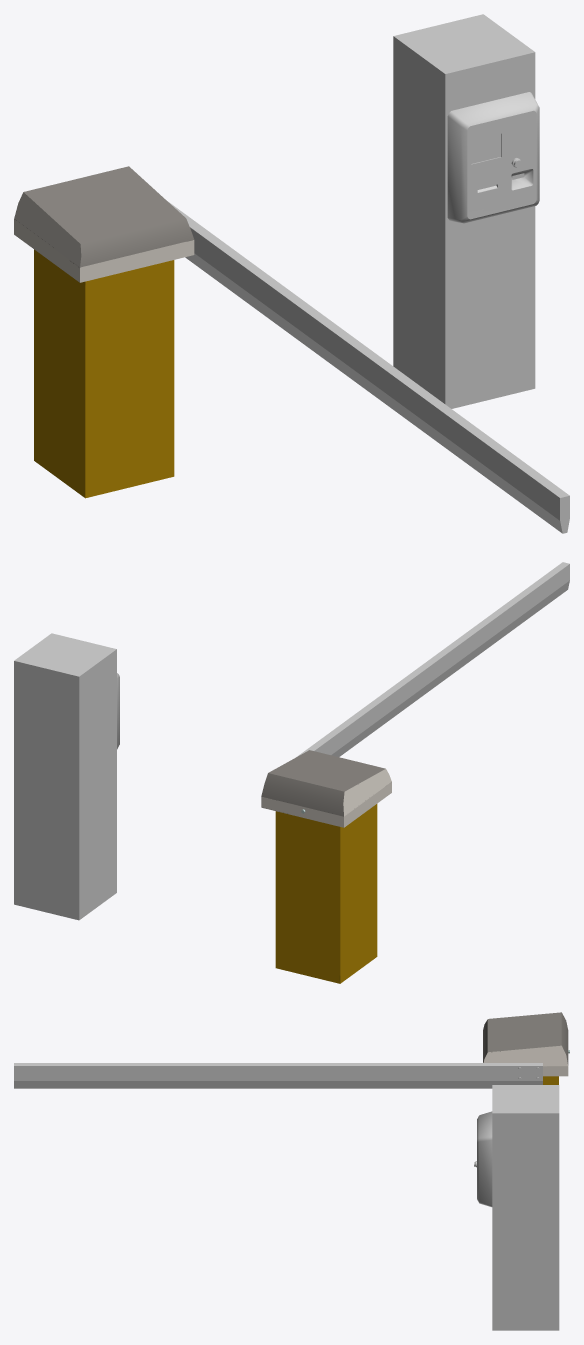
File: barrier gate.fbx
3 views of the same model, one above another, from view 1: azimuth 30°, elevation 25°; view 2: azimuth 150°, elevation 25°; view 3: azimuth 270°, elevation 25° (orthographic). The views are drawn at different scales.
Parts seen in each view (by area): view 1: machine_ticket, barrier gate, Bar; view 2: machine_ticket, barrier gate, Bar; view 3: machine_ticket, Bar, barrier gate.
Boxes of the visible parts, x1=… form: machine_ticket: x1=393, y1=14, x2=539, y2=408; barrier gate: x1=14, y1=166, x2=194, y2=498; Bar: x1=167, y1=201, x2=569, y2=533; machine_ticket: x1=14, y1=633, x2=119, y2=920; barrier gate: x1=261, y1=750, x2=391, y2=983; Bar: x1=297, y1=562, x2=569, y2=756; machine_ticket: x1=474, y1=1085, x2=559, y2=1330; Bar: x1=14, y1=1063, x2=542, y2=1088; barrier gate: x1=483, y1=1012, x2=569, y2=1084.
Bounding box in the file's own units: 248 × 172 × 399.
